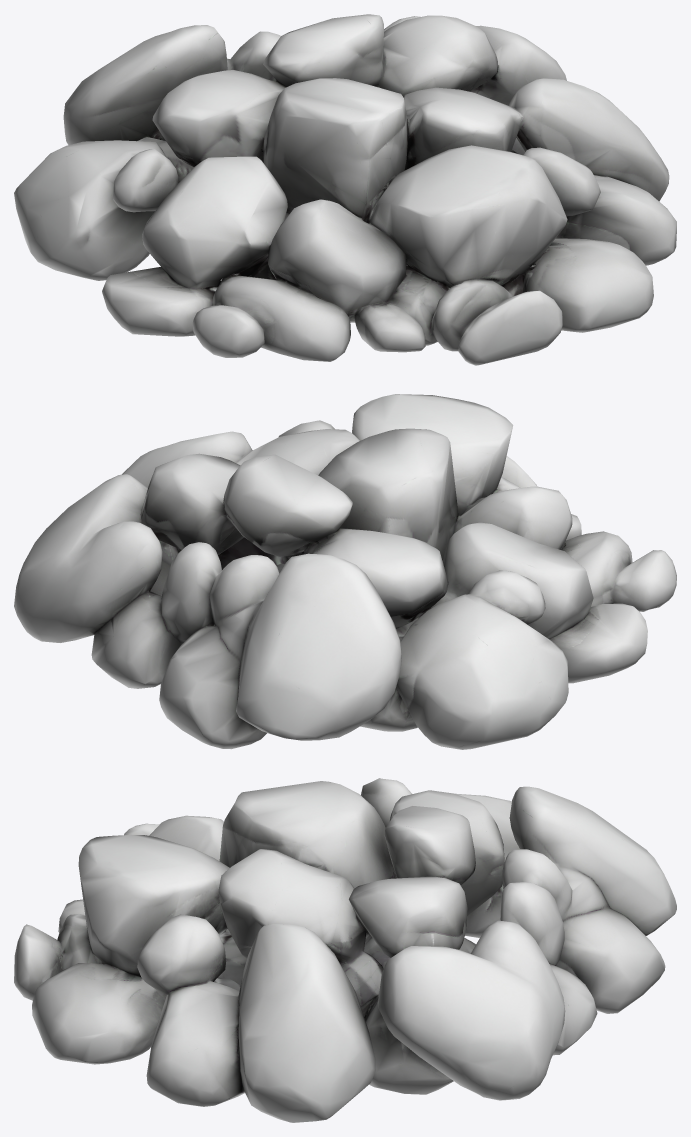
Rendered from beach_rock.glb.
3 renders of one model, top to bottom at view 1: azimuth 30°, elevation 25°; view 2: azimuth 150°, elevation 25°; view 3: azimuth 270°, elevation 25°, orthographic. The views are drawn at different scales.
Size of the model in its own units: 1.83 by 0.6463 by 1.91.
Materials: 1 (1 with a texture image).
